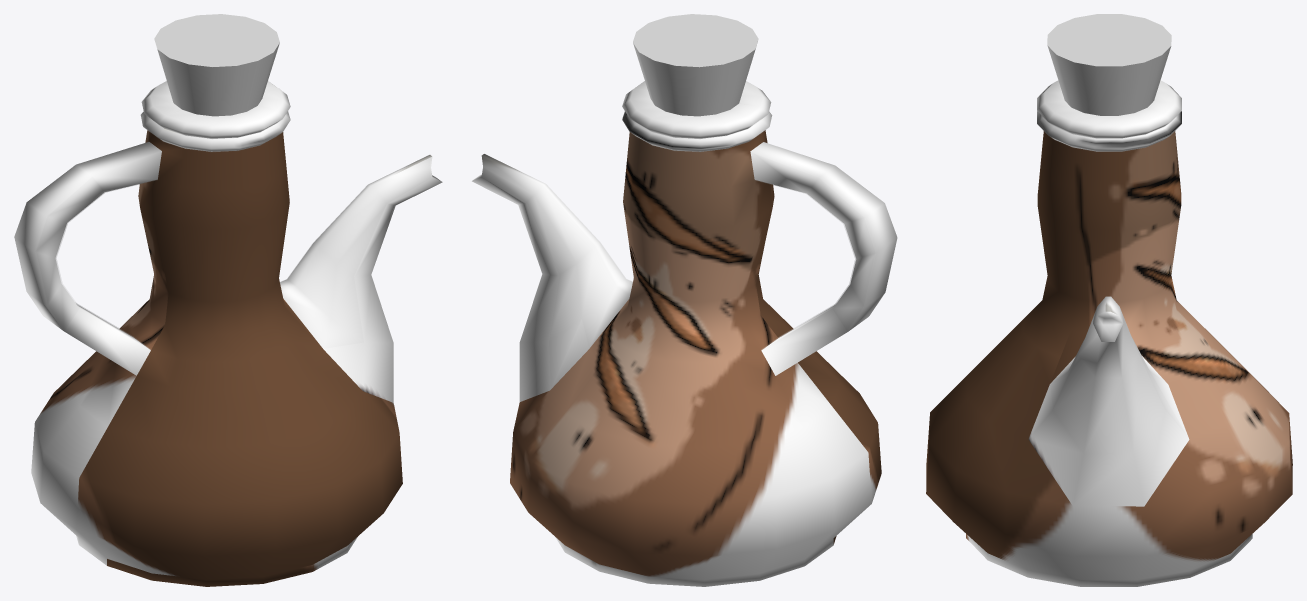
The model's file is oiler.fbx.
The picture shows the model from 3 angles, left to right: view 1: azimuth 30°, elevation 25°; view 2: azimuth 150°, elevation 25°; view 3: azimuth 270°, elevation 25°; orthographic projection.
Parts seen in each view (by area): view 1: Cylinder.103, Cylinder.131; view 2: Cylinder.103, Cylinder.131; view 3: Cylinder.103, Cylinder.131.
Part boxes in pixels (x1,y1,x2,y2): Cylinder.103: [14, 81, 442, 586]; Cylinder.131: [37, 14, 430, 349]; Cylinder.103: [472, 81, 897, 586]; Cylinder.131: [484, 14, 874, 386]; Cylinder.103: [926, 80, 1292, 586]; Cylinder.131: [1038, 14, 1184, 432].
Bounding box in the file's own units: 38.15 × 42.75 × 29.22.
